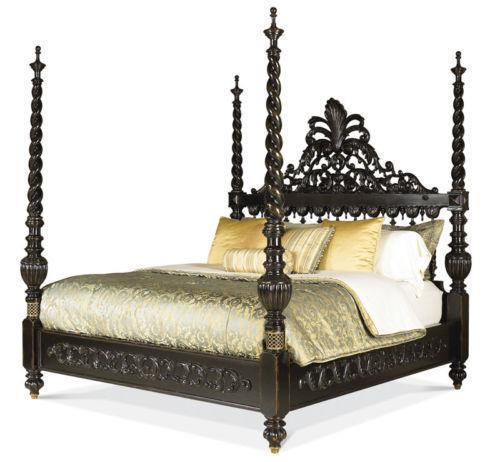bed: (13, 9, 482, 460)
